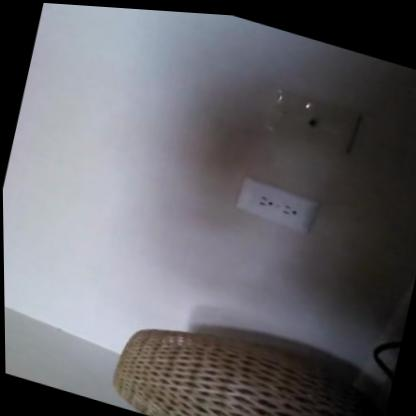OUTLET: (235, 175, 318, 235)
